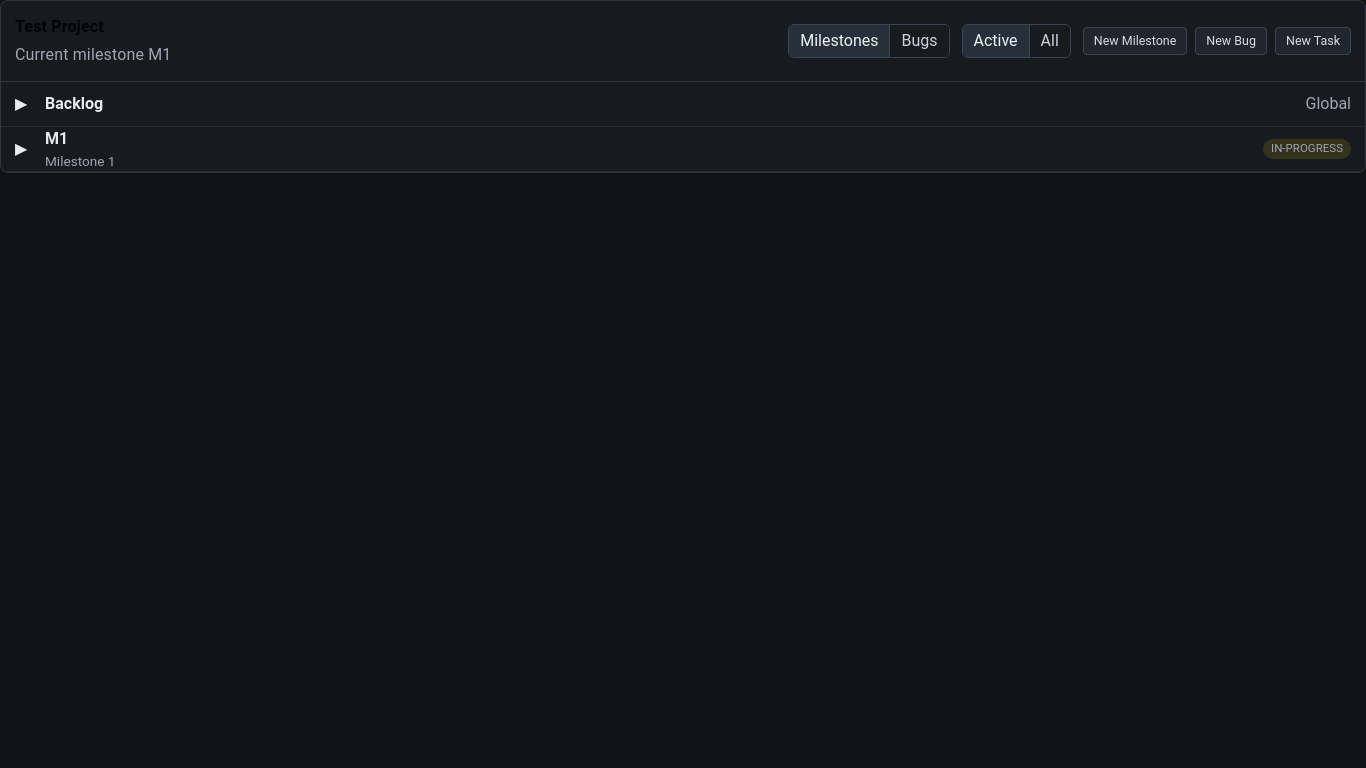
TaskflowView Refactored Filters › opens a bug modal with backlog defaults
The image size is (1366, 768).
Check: the text "Milestone 1" is shown, box [45,153,116,169]
Click the button "New Bug": point(1231, 41) [1195,27,1267,55]
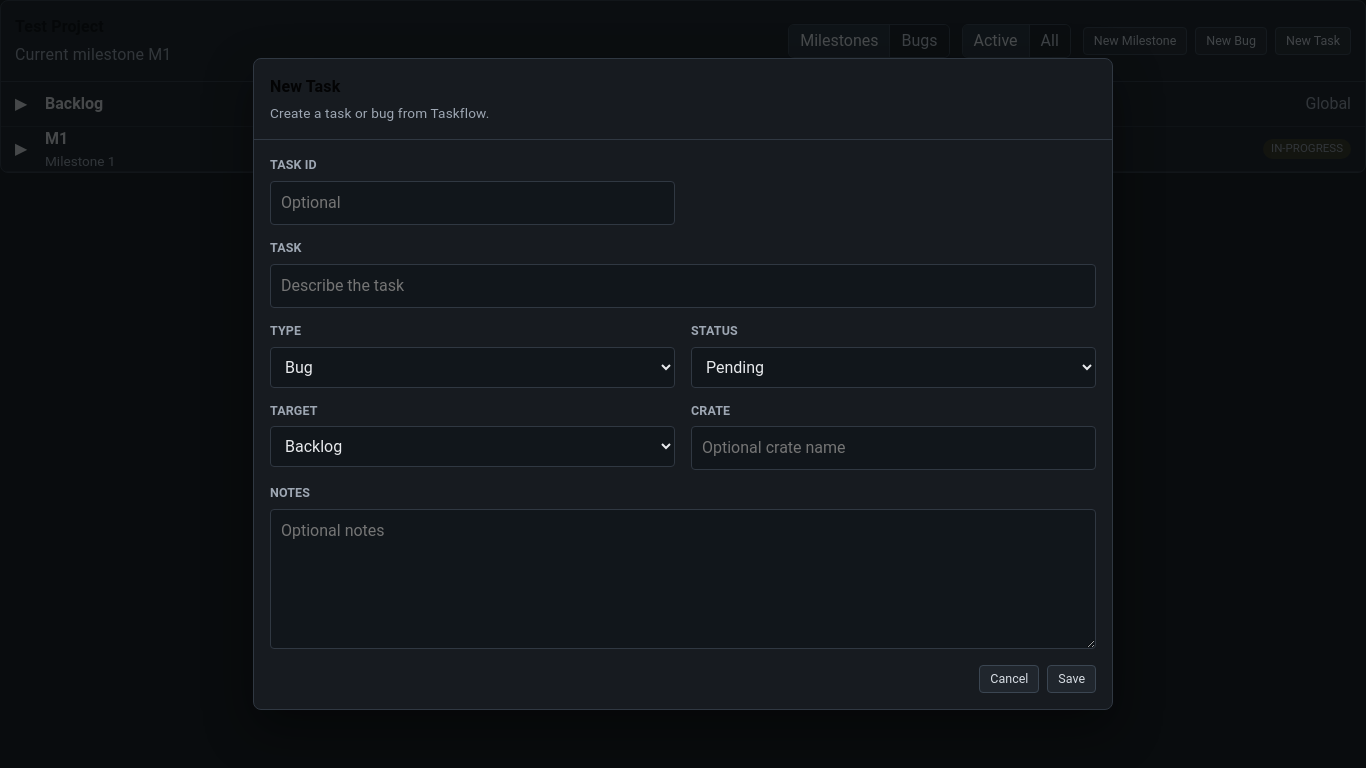
Check: the heading "New Task" is shown, box [270,77,340,96]
Check: the field labelled "Task ID" is empty, box [270,181,675,225]
Check: the field labelled "Task" is empty, box [270,264,1096,308]
